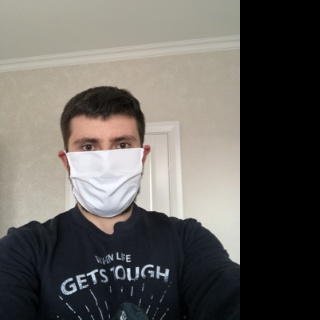with_mask: (65, 127, 144, 217)
